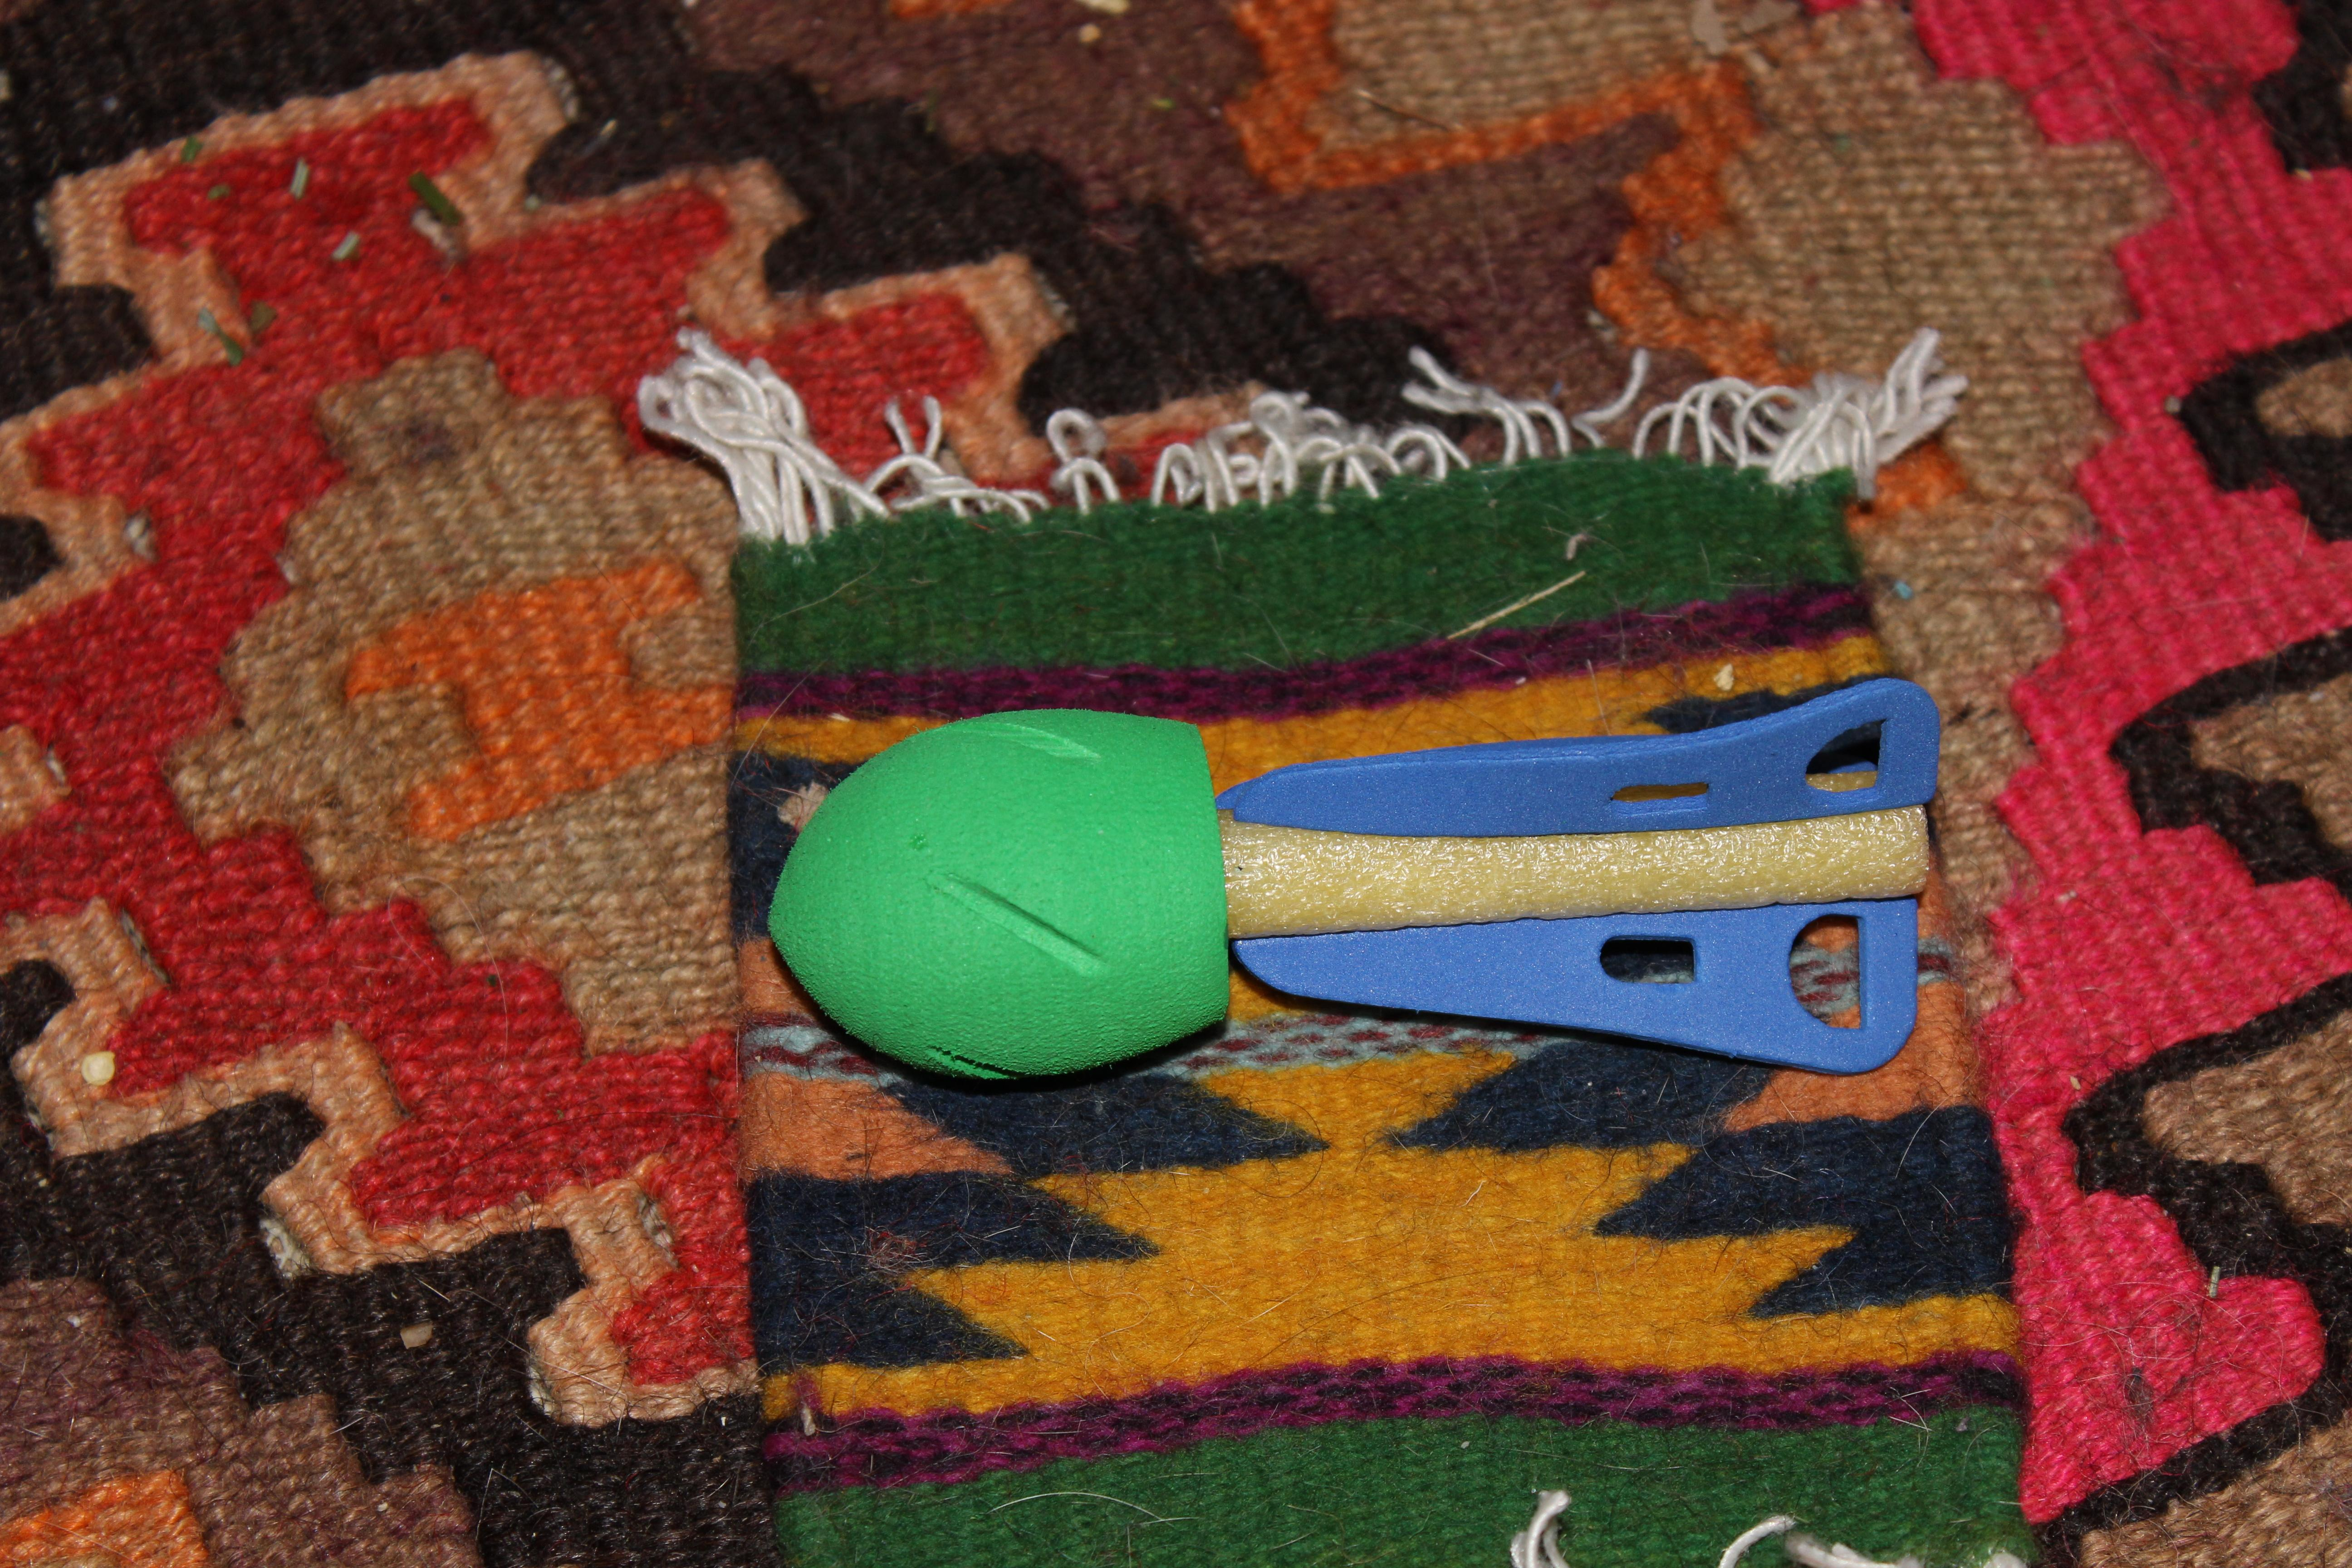foamDart: (733, 639, 1997, 1157)
